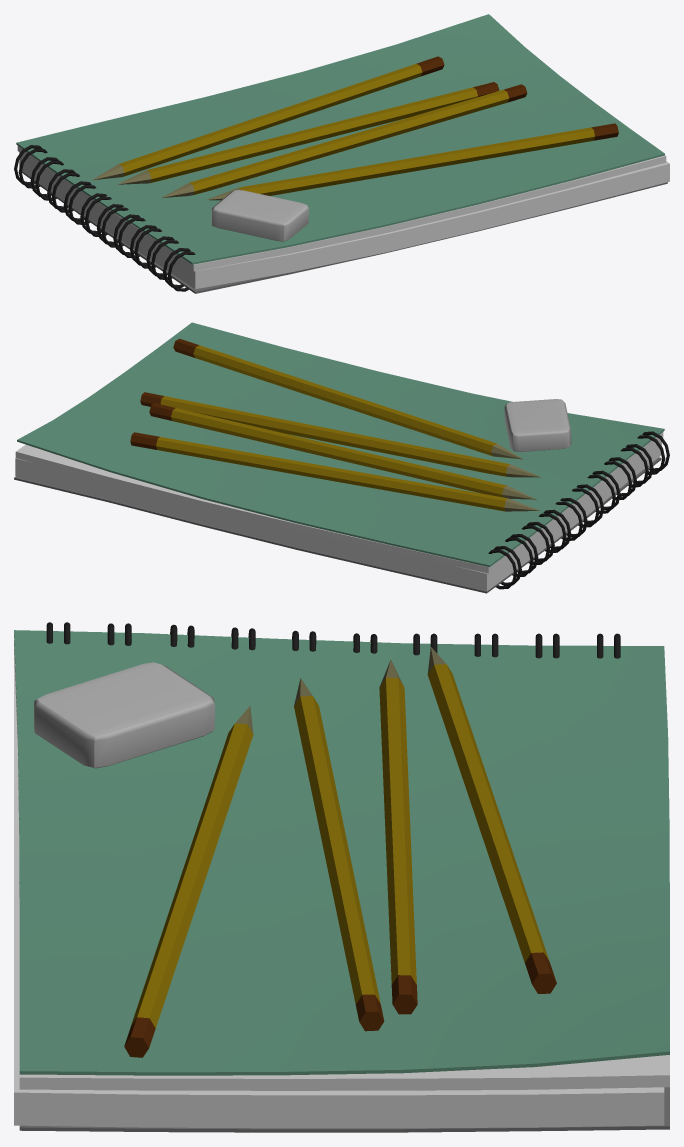
File: sketchbook.fbx
The picture shows the model from 3 angles, top to bottom: view 1: azimuth 30°, elevation 25°; view 2: azimuth 150°, elevation 25°; view 3: azimuth 270°, elevation 25°; orthographic projection. The views are drawn at different scales.
Visible parts, largest first — view 1: pCube4, pCube1, pCylinder4, pCylinder2, pCylinder1, pCylinder3, pCube3, pCube6, pCube5, pTorus12, pTorus4, pTorus6 (+7 smaller); view 2: pCube4, pCube1, pCylinder3, pCube3, pCylinder2, pCylinder1, pCylinder4, pCube6, pCube5, pTorus3, pTorus4, pTorus5 (+7 smaller); view 3: pCube4, pCube1, pCube6, pCube3, pCylinder4, pCylinder2, pCylinder1, pCylinder3, pCube5.
Part boxes in pixels (x1=…): pCube4: x1=16, y1=14, x2=664, y2=264; pCube1: x1=19, y1=152, x2=669, y2=289; pCylinder4: x1=207, y1=123, x2=618, y2=200; pCylinder2: x1=117, y1=82, x2=499, y2=184; pCylinder1: x1=162, y1=84, x2=527, y2=197; pCylinder3: x1=92, y1=56, x2=444, y2=180; pCube3: x1=17, y1=146, x2=666, y2=271; pCube6: x1=211, y1=190, x2=308, y2=241; pCube5: x1=22, y1=171, x2=667, y2=293; pTorus12: x1=163, y1=248, x2=195, y2=291; pTorus4: x1=30, y1=157, x2=63, y2=200; pTorus6: x1=63, y1=181, x2=96, y2=225; pCube4: x1=17, y1=322, x2=664, y2=567; pCube1: x1=15, y1=440, x2=661, y2=591; pCylinder3: x1=130, y1=432, x2=539, y2=511; pCube3: x1=15, y1=432, x2=663, y2=573; pCylinder2: x1=149, y1=403, x2=536, y2=499; pCylinder1: x1=140, y1=392, x2=540, y2=477; pCylinder4: x1=173, y1=338, x2=522, y2=459; pCube6: x1=504, y1=399, x2=571, y2=451; pCube5: x1=14, y1=457, x2=661, y2=593; pTorus3: x1=488, y1=546, x2=521, y2=589; pTorus4: x1=505, y1=534, x2=538, y2=577; pTorus5: x1=521, y1=522, x2=554, y2=565; pCube4: x1=14, y1=630, x2=669, y2=1075; pCube1: x1=14, y1=652, x2=664, y2=1128; pCube6: x1=34, y1=662, x2=214, y2=768; pCube3: x1=14, y1=638, x2=669, y2=1090; pCylinder4: x1=124, y1=706, x2=253, y2=1057; pCylinder2: x1=379, y1=659, x2=417, y2=1014; pCylinder1: x1=294, y1=678, x2=384, y2=1031; pCylinder3: x1=427, y1=647, x2=556, y2=993; pCube5: x1=19, y1=1087, x2=669, y2=1132.
Bounding box in the file's own units: 6.29 × 0.6717 × 3.93.
